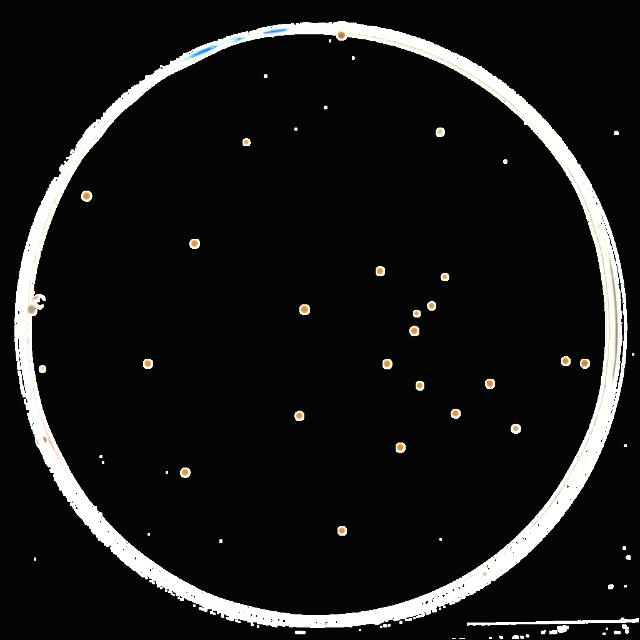colony: (179, 465, 191, 479), (299, 303, 313, 315), (294, 408, 306, 420), (396, 441, 406, 453), (339, 524, 348, 536), (143, 358, 153, 368), (375, 266, 385, 276), (409, 326, 419, 336), (437, 128, 447, 138), (580, 359, 590, 369), (82, 190, 91, 200), (190, 240, 200, 248), (242, 136, 250, 146), (384, 360, 392, 370), (511, 425, 521, 433), (415, 382, 423, 391), (452, 409, 460, 418), (488, 378, 494, 390), (414, 308, 422, 316), (562, 356, 570, 364), (338, 32, 346, 40), (38, 364, 46, 372), (29, 306, 37, 314), (428, 300, 434, 310), (442, 274, 448, 282), (482, 572, 488, 576)
